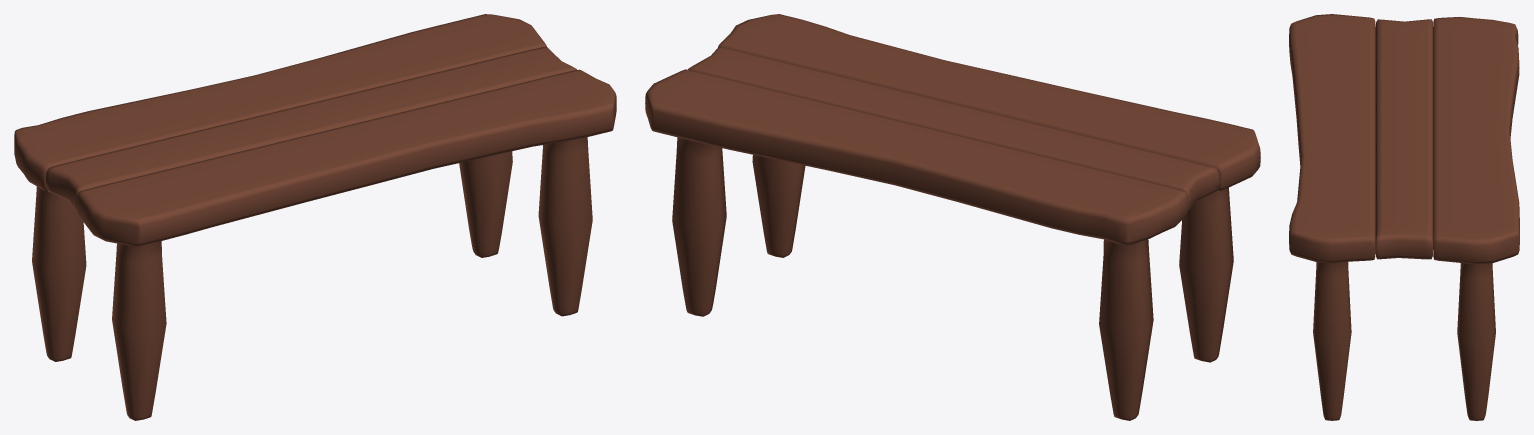
The model's file is mesa.fbx.
3 renders of one model, left to right at view 1: azimuth 30°, elevation 25°; view 2: azimuth 150°, elevation 25°; view 3: azimuth 270°, elevation 25°, orthographic. The views are drawn at different scales.
Visible parts, largest first — view 1: mesa; view 2: mesa; view 3: mesa.
Part boxes in pixels (left/top/right/bottom): mesa: left=14, top=14, right=616, bottom=420; mesa: left=645, top=14, right=1260, bottom=420; mesa: left=1289, top=14, right=1519, bottom=420.
Bounding box in the file's own units: 361 × 144 × 153.
